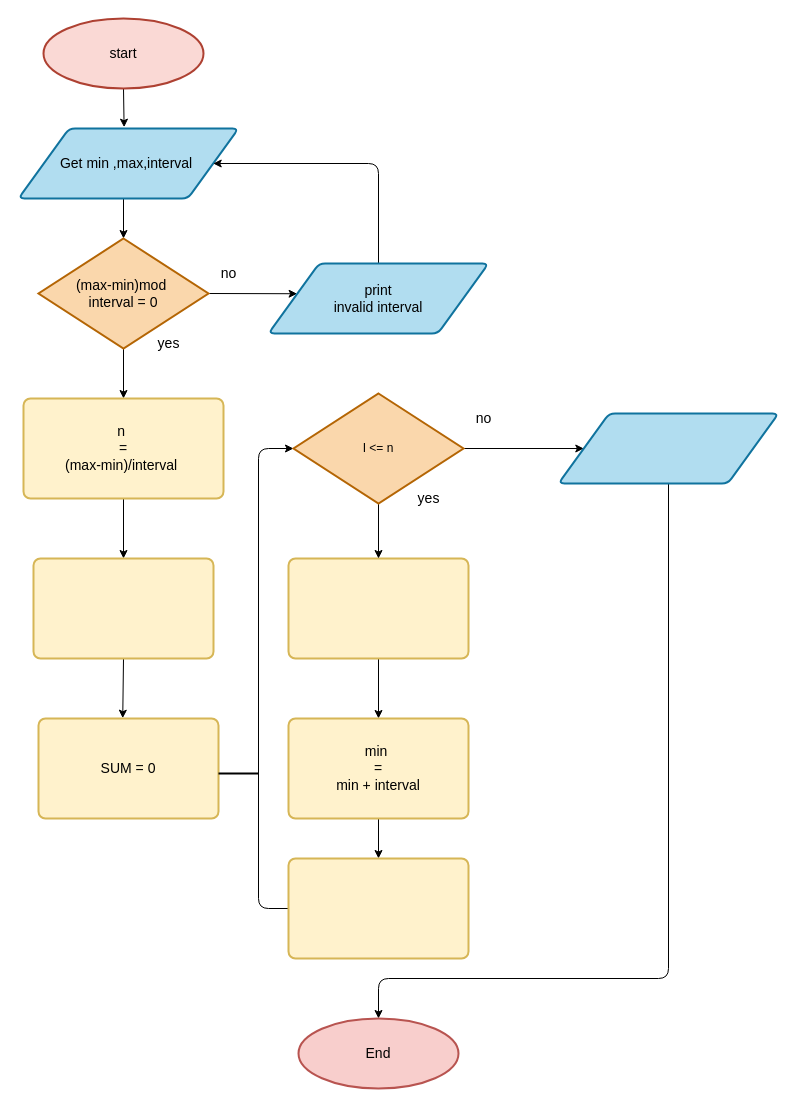
This 796x1106 diagram has some shape labels left out. The centre of each missing label's shape, as x and y in pixels:
i = 1: [123,608]
i = i +1: [378,908]
print sum: [668,448]
sum sum + min: [378,608]
